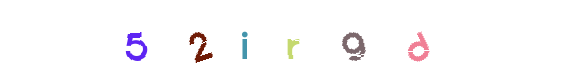2: (160, 0, 240, 80)
5: (96, 0, 176, 80)
9: (282, 0, 362, 80)
D: (337, 0, 417, 80)
I: (244, 0, 324, 80)
R: (250, 0, 330, 80)
